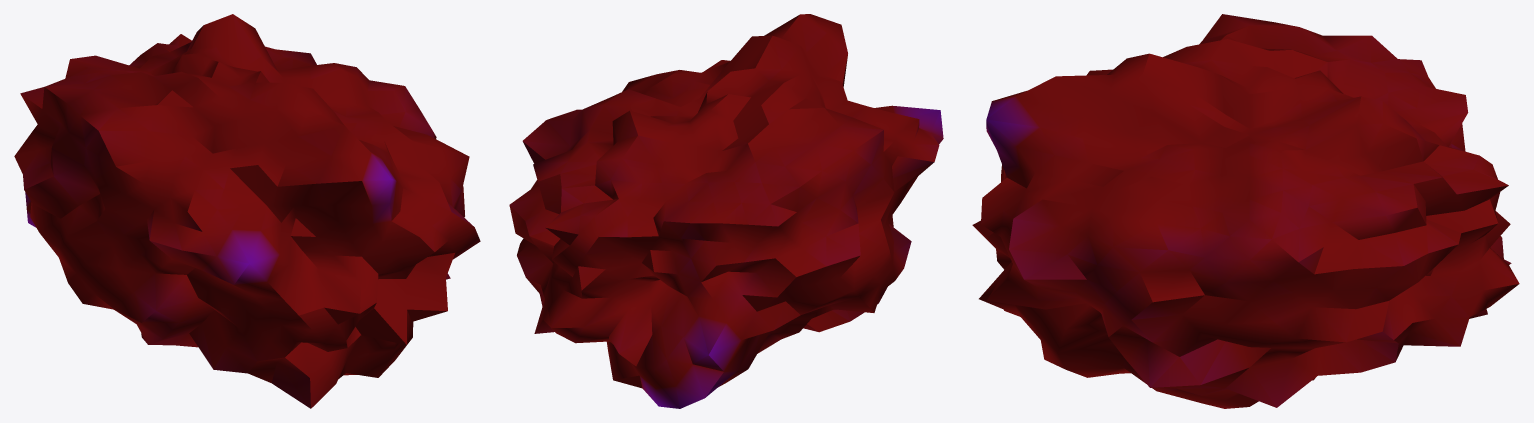
File: asteroid_2.fbx
3 renders of one model, left to right at view 1: azimuth 30°, elevation 25°; view 2: azimuth 150°, elevation 25°; view 3: azimuth 270°, elevation 25°, orthographic. The views are drawn at different scales.
Parts seen in each view (by area): view 1: asteroid_2; view 2: asteroid_2; view 3: asteroid_2.
Part boxes in pixels (x1=…): asteroid_2: x1=14, y1=14, x2=480, y2=408; asteroid_2: x1=509, y1=14, x2=943, y2=408; asteroid_2: x1=972, y1=14, x2=1519, y2=408.
Size of the model in its own units: 1.89 by 1.5 by 2.31.
